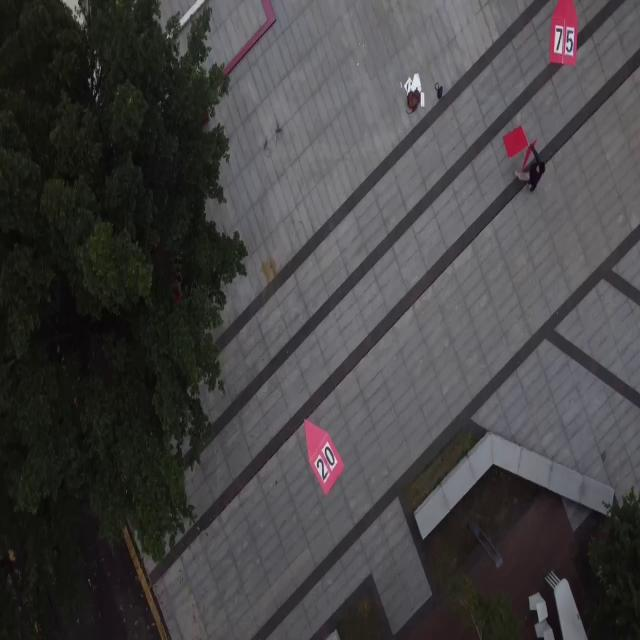-sign-: (303, 417, 345, 496), (549, 0, 579, 67), (502, 125, 530, 158)
